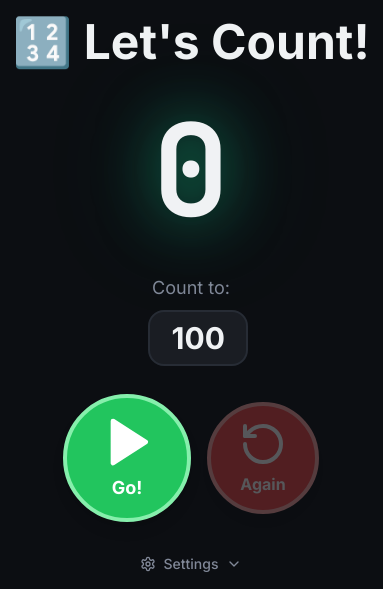
Test: Counter › pauses and preserves count; resume can reach Done
Type "5" into the field with placeholder "100" at [198, 338], box [148,310,248,366]
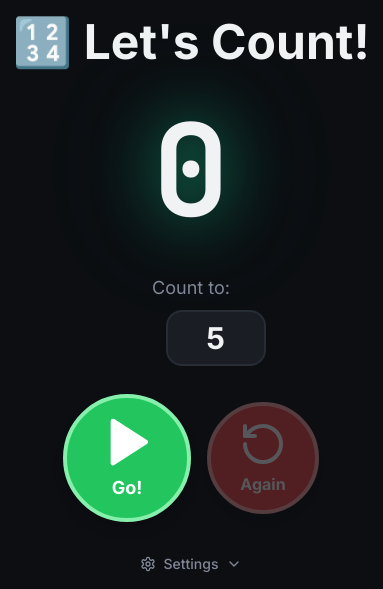
Click the button "Go!" at [127, 458], box [63,394,191,522]
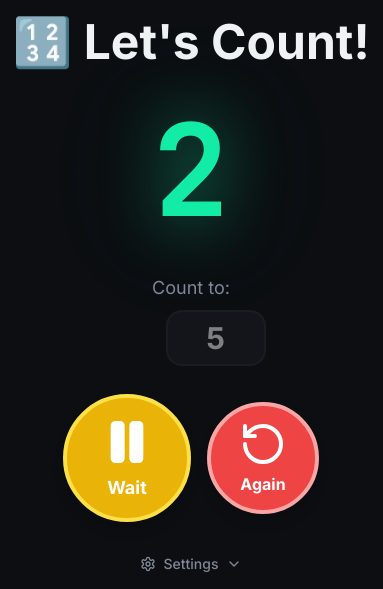
Result: the button "Wait" is shown
Click the button "Wait" at [127, 458], box [63,394,191,522]
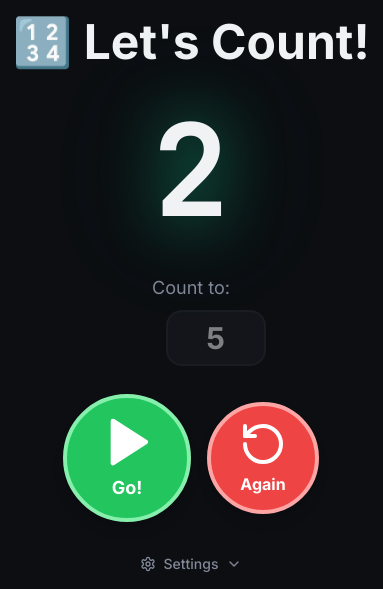
Expected: the text "Done!" is not shown
Result: the text with class "counter-display" reads "2" at [153,85,229,254]
Click the button "Go!" at [127, 458], box [63,394,191,522]
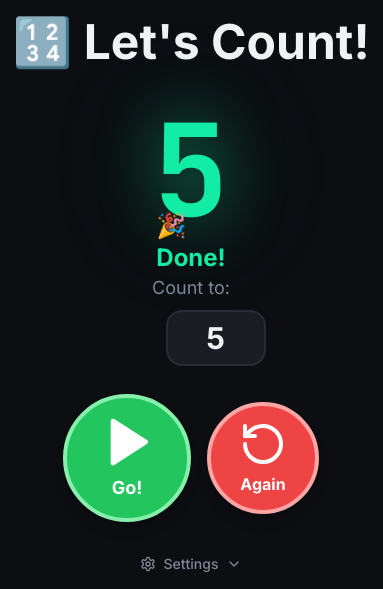
Result: the text "🎉 Done!" is shown at [156,210,226,274]
